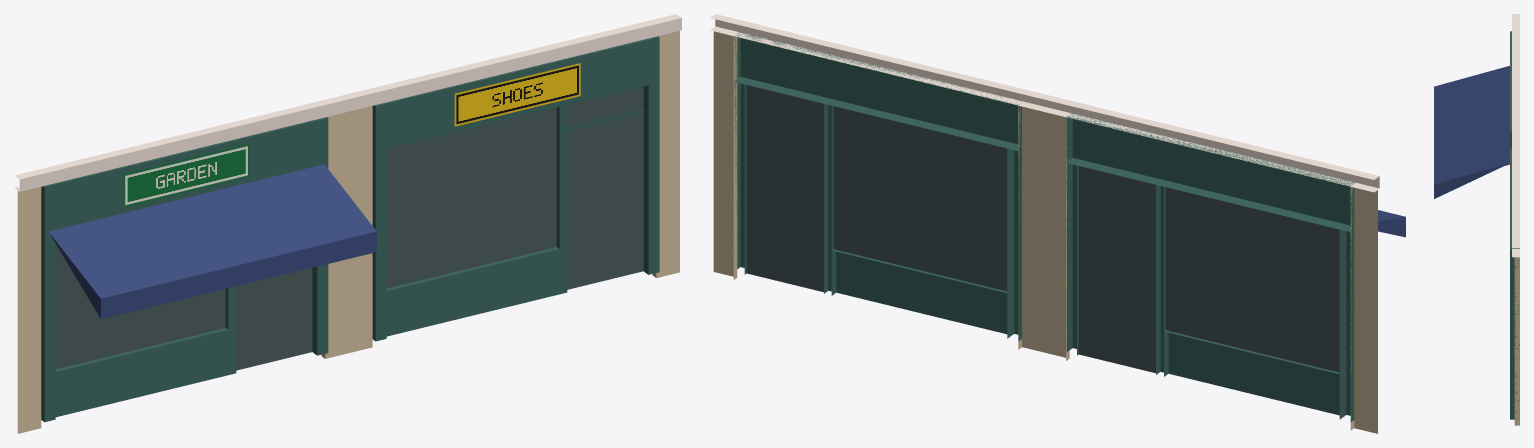
3 renders of one model, left to right at view 1: azimuth 30°, elevation 25°; view 2: azimuth 150°, elevation 25°; view 3: azimuth 270°, elevation 25°, orthographic. The views are drawn at different scales.
Visible parts, largest first — view 1: a2006/500/base-w4; view 2: a2006/500/base-w4; view 3: a2006/500/base-w4.
Part boxes in pixels (box(x1,y1,x2,y2)): a2006/500/base-w4: box(14, 14, 681, 433); a2006/500/base-w4: box(710, 14, 1405, 433); a2006/500/base-w4: box(1434, 14, 1519, 425).
Size of the model in its own units: 8.4 by 3.1 by 1.3.
